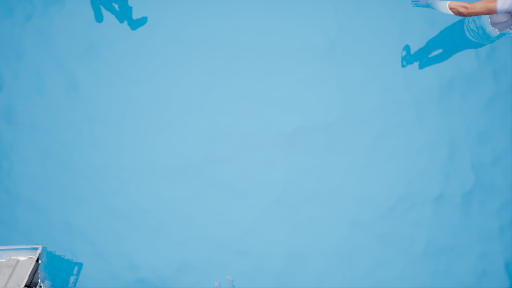person: (396, 1, 512, 69)
